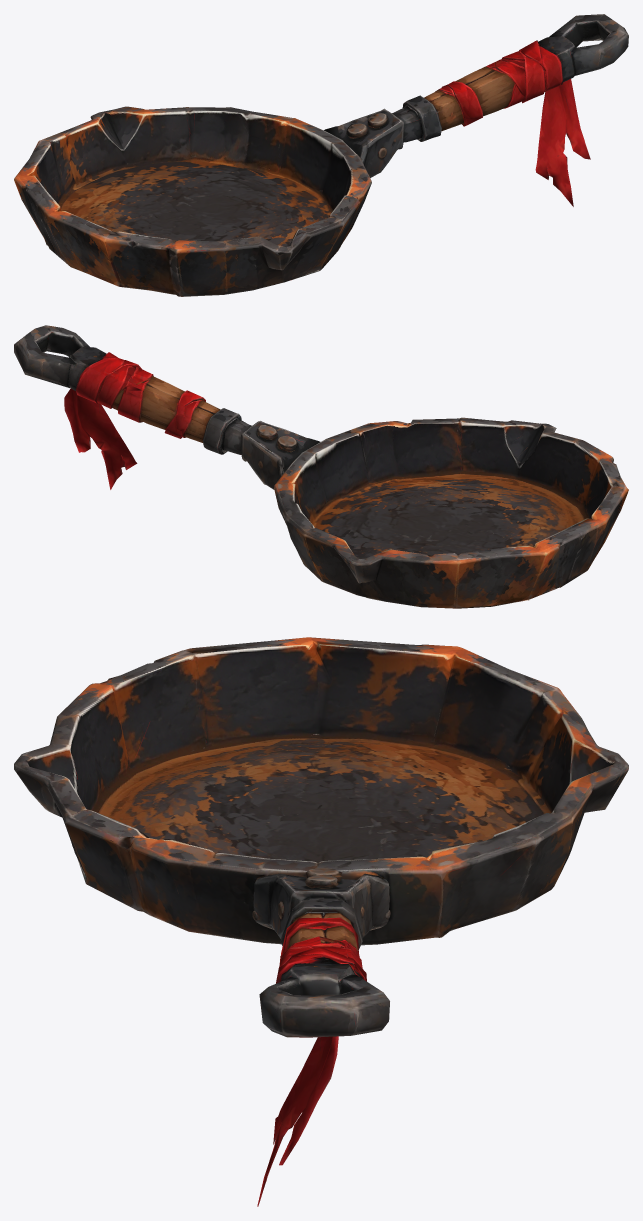
File: Meshy_AI_Emberbound_Skillet_1018200029_texture.fbx
3 renders of one model, top to bottom at view 1: azimuth 30°, elevation 25°; view 2: azimuth 150°, elevation 25°; view 3: azimuth 270°, elevation 25°, orthographic. The views are drawn at different scales.
Visible parts, largest first — view 1: Mesh_0; view 2: Mesh_0; view 3: Mesh_0.
Part boxes in pixels (<box>): Mesh_0: <box>14,14,628,296</box>; Mesh_0: <box>14,325,628,608</box>; Mesh_0: <box>14,637,628,1206</box>.
Size of the model in its own units: 45.68 by 12 by 26.18.
1 material, 1 textured.
